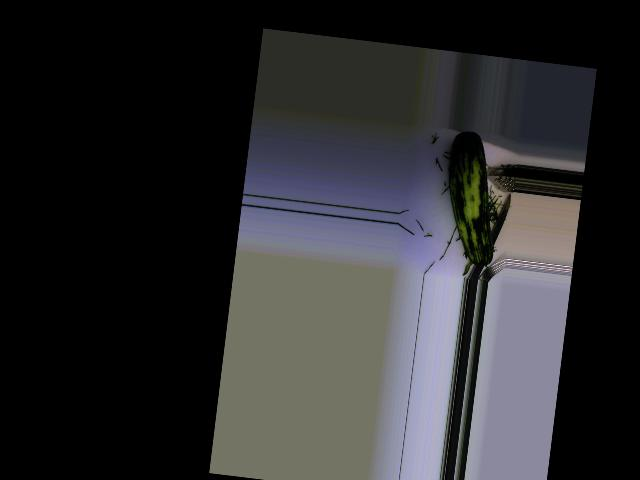cucumber: (437, 129, 507, 268)
